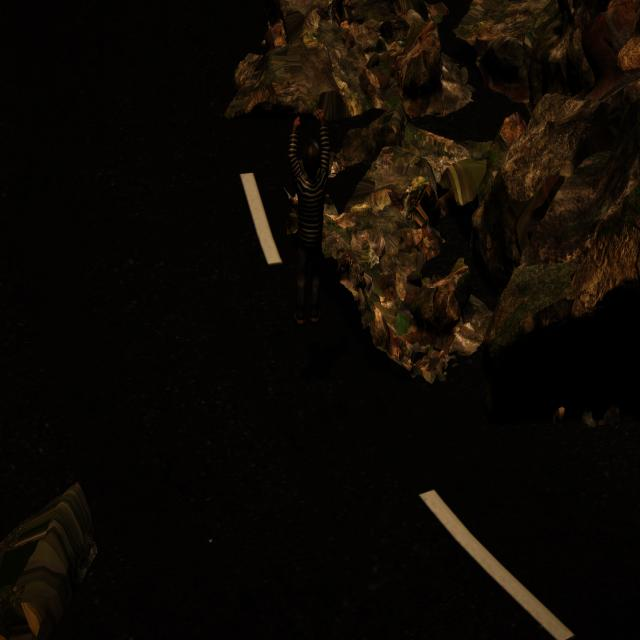Human: (288, 106, 329, 340)
